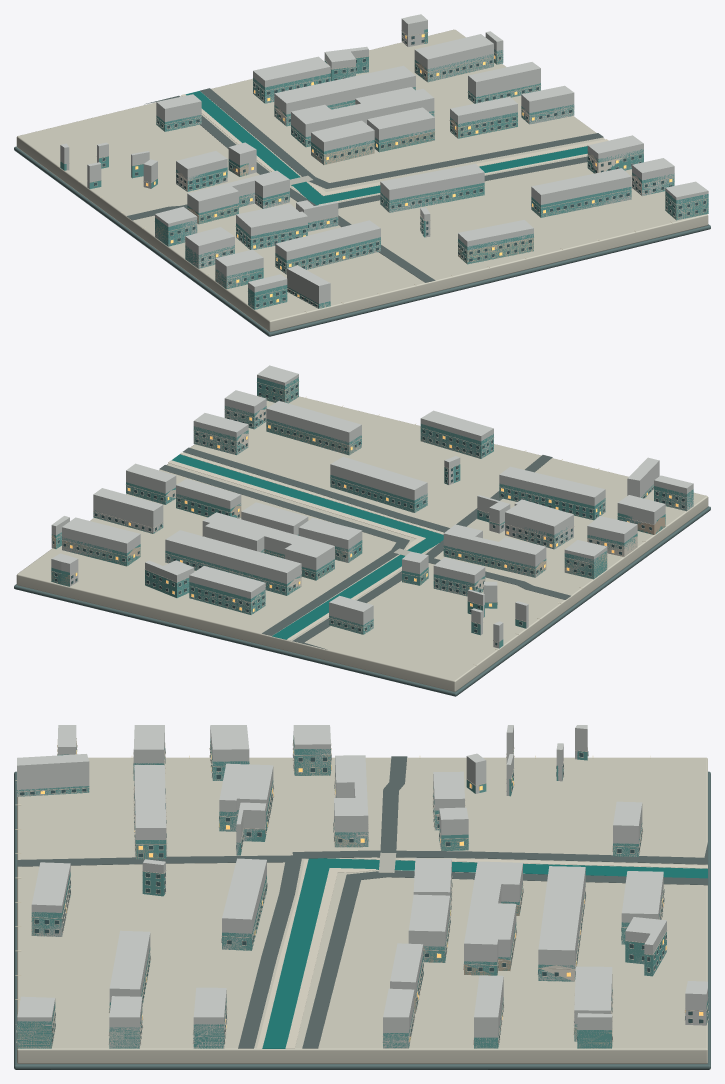
File: jining_block_v02.glb
The picture shows the model from 3 angles, top to bottom: view 1: azimuth 30°, elevation 25°; view 2: azimuth 150°, elevation 25°; view 3: azimuth 270°, elevation 25°; orthographic projection. The views are drawn at different scales.
Visible parts, largest first — view 1: Study_Tile, Baseline, Analysis, Dark_Plinth, water_039, road_037, road_036, Illustrative_Promenade_0, Building_019, Facade_Building_008, Building_021; view 2: Study_Tile, Baseline, Analysis, water_039, road_036, Dark_Plinth, road_037, Illustrative_Promenade_0, Illustrative_Promenade_1, Facade_Building_008; view 3: Study_Tile, Baseline, Analysis, road_036, water_039, Dark_Plinth, road_037, Illustrative_Promenade_0, Illustrative_Promenade_2, Illustrative_Promenade_1.
Part boxes in pixels (bbox=[...]): Study_Tile: bbox=[16, 29, 708, 331]; Baseline: bbox=[60, 14, 708, 308]; Analysis: bbox=[60, 29, 708, 309]; Dark_Plinth: bbox=[14, 146, 710, 336]; water_039: bbox=[185, 91, 587, 205]; road_037: bbox=[200, 88, 603, 188]; road_036: bbox=[127, 95, 587, 282]; Illustrative_Promenade_0: bbox=[308, 139, 608, 195]; Building_019: bbox=[458, 238, 533, 263]; Facade_Building_008: bbox=[275, 240, 380, 272]; Building_021: bbox=[311, 143, 374, 164]; Study_Tile: bbox=[16, 396, 708, 691]; Baseline: bbox=[51, 365, 693, 648]; Analysis: bbox=[51, 377, 693, 648]; water_039: bbox=[172, 454, 443, 639]; road_036: bbox=[183, 447, 570, 649]; Dark_Plinth: bbox=[14, 506, 710, 696]; road_037: bbox=[159, 465, 409, 635]; Illustrative_Promenade_0: bbox=[168, 460, 425, 549]; Illustrative_Promenade_1: bbox=[180, 452, 443, 534]; Facade_Building_008: bbox=[499, 486, 605, 518]; Study_Tile: bbox=[17, 757, 707, 1063]; Baseline: bbox=[17, 725, 707, 1048]; Analysis: bbox=[17, 735, 707, 1048]; road_036: bbox=[17, 756, 707, 1048]; water_039: bbox=[262, 858, 707, 1048]; Dark_Plinth: bbox=[14, 771, 710, 1069]; road_037: bbox=[302, 870, 707, 1048]; Illustrative_Promenade_0: bbox=[285, 868, 375, 1048]; Illustrative_Promenade_2: bbox=[398, 858, 707, 868]; Illustrative_Promenade_1: bbox=[257, 859, 308, 1048].
Bounding box in the file's own units: 242 × 20.01 × 242.
